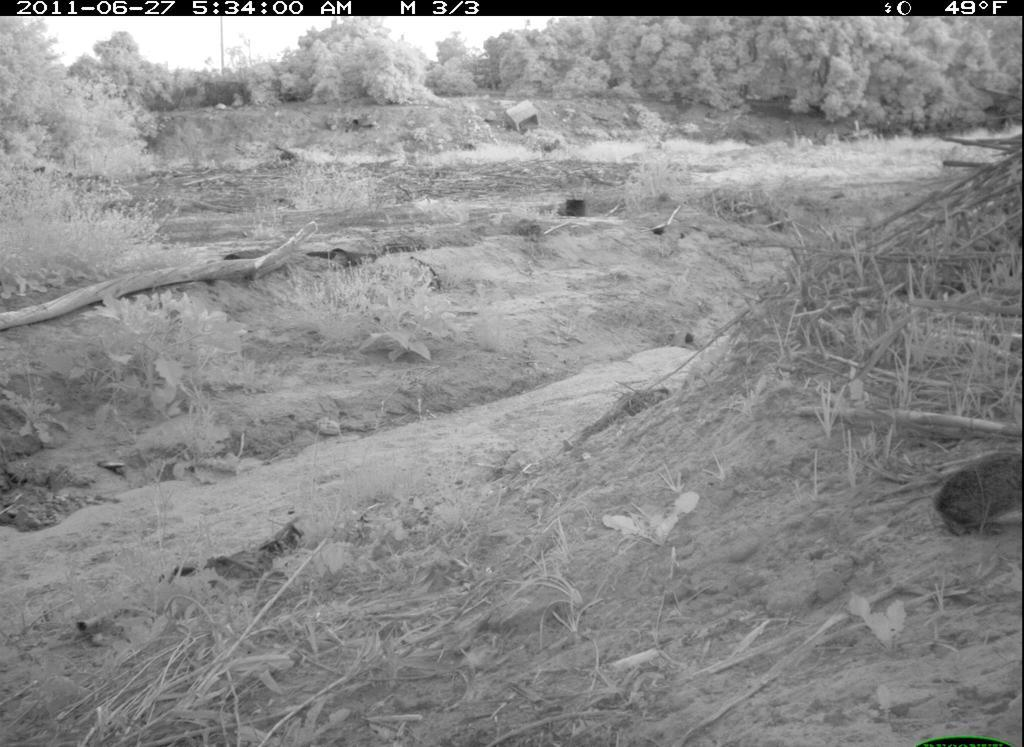rabbit: (931, 446, 1022, 538)
